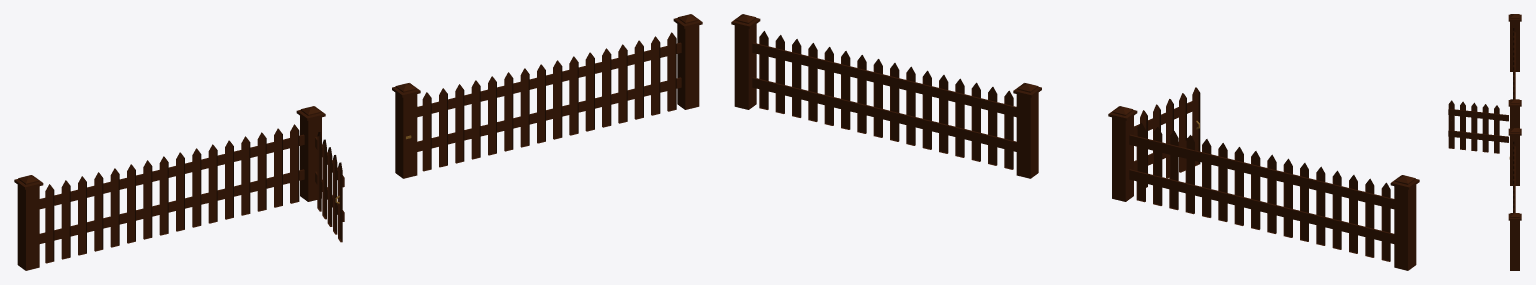
Rendered from Fence Entrance 1.fbx.
3 renders of one model, left to right at view 1: azimuth 30°, elevation 25°; view 2: azimuth 150°, elevation 25°; view 3: azimuth 270°, elevation 25°, orthographic. The views are drawn at different scales.
Visible parts, largest first — view 1: Cube.004, Cube.008, Cube.006, Cube.002, Cube.007, Cube, Cube.003, Cube.011, Cube.009; view 2: Cube.004, Cube.008, Cube.006, Cube.002, Cube.007, Cube, Cube.003, Cube.009, Cube.011, Cube.010; view 3: Cube.011, Cube.010, Cube.003, Cube, Cube.007, Cube.009, Cube.004, Cube.008, Cube.006, Cube.002.
Part boxes in pixels (bbox=[...]): Cube.004: bbox=[422, 32, 676, 171]; Cube.008: bbox=[45, 124, 299, 263]; Cube.006: bbox=[39, 134, 304, 243]; Cube.002: bbox=[417, 42, 681, 151]; Cube.007: bbox=[14, 175, 43, 270]; Cube: bbox=[392, 83, 420, 178]; Cube.003: bbox=[673, 14, 702, 109]; Cube.011: bbox=[317, 132, 342, 242]; Cube.009: bbox=[296, 106, 325, 201]; Cube.004: bbox=[759, 31, 1013, 169]; Cube.008: bbox=[1136, 123, 1390, 261]; Cube.006: bbox=[1129, 134, 1394, 243]; Cube.002: bbox=[752, 42, 1016, 151]; Cube.007: bbox=[1390, 175, 1419, 270]; Cube: bbox=[1013, 83, 1041, 178]; Cube.003: bbox=[731, 14, 760, 109]; Cube.009: bbox=[1108, 106, 1137, 201]; Cube.011: bbox=[1140, 87, 1200, 187]; Cube.010: bbox=[1134, 101, 1199, 170]; Cube.011: bbox=[1448, 100, 1499, 153]; Cube.010: bbox=[1448, 109, 1508, 142]; Cube.003: bbox=[1508, 213, 1521, 270]; Cube: bbox=[1508, 128, 1521, 185]; Cube.007: bbox=[1508, 14, 1521, 71]; Cube.009: bbox=[1508, 99, 1521, 128]; Cube.004: bbox=[1513, 141, 1514, 212]; Cube.008: bbox=[1513, 28, 1514, 99]; Cube.006: bbox=[1514, 32, 1515, 99]; Cube.002: bbox=[1514, 146, 1515, 212].
Size of the model in its own units: 24.27 by 3.07 by 3.67.
